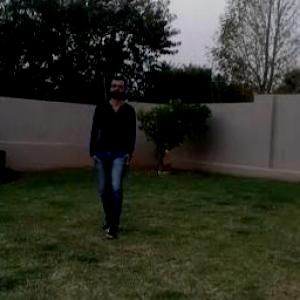follow: (84, 72, 142, 239)
